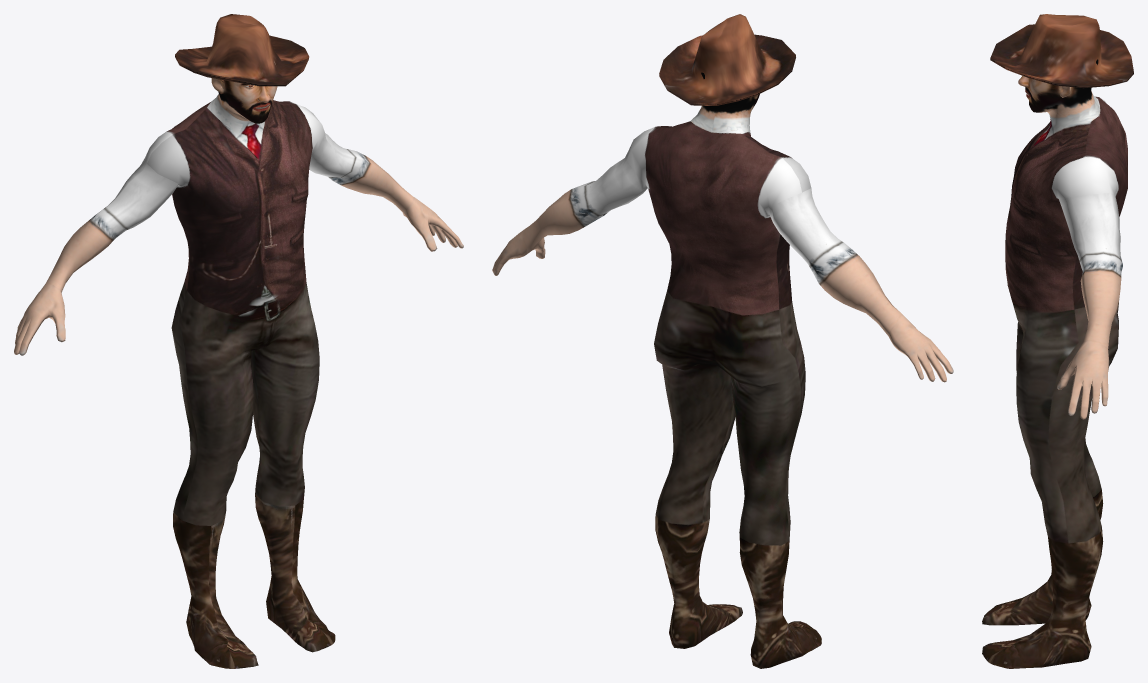
File: character01.obj
The picture shows the model from 3 angles, left to right: view 1: azimuth 30°, elevation 25°; view 2: azimuth 150°, elevation 25°; view 3: azimuth 270°, elevation 25°; orthographic projection. The views are drawn at different scales.
Parts seen in each view (by area): view 1: polySurface3; view 2: polySurface3; view 3: polySurface3.
Part boxes in pixels (left/top/right/bottom): polySurface3: left=14, top=14, right=463, bottom=668; polySurface3: left=492, top=14, right=953, bottom=668; polySurface3: left=982, top=14, right=1133, bottom=668.
Size of the model in its own units: 1.56 by 2.05 by 0.4539.
